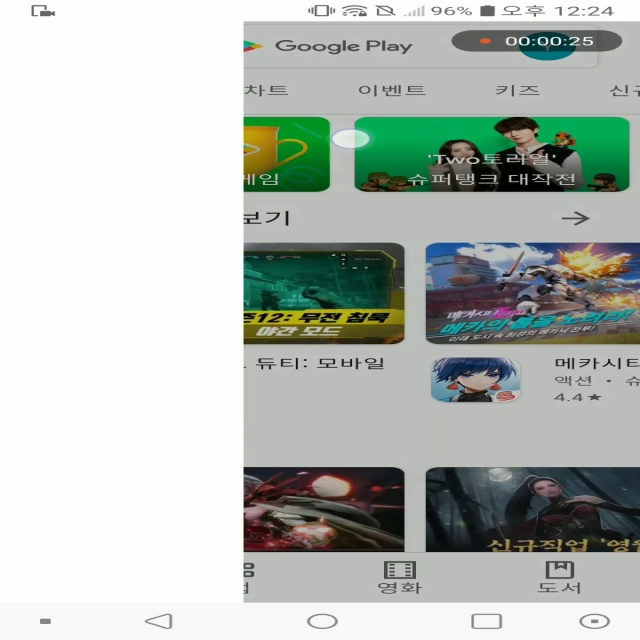Cursor: (330, 128, 375, 151)
